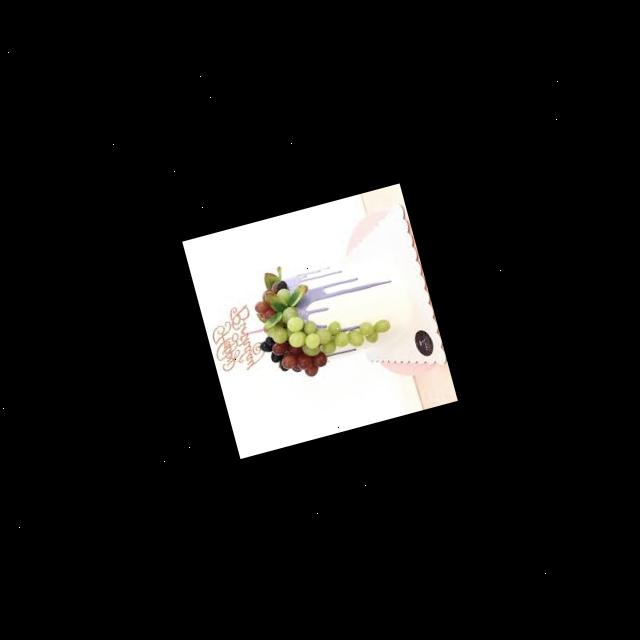grape: (240, 242, 398, 386)
